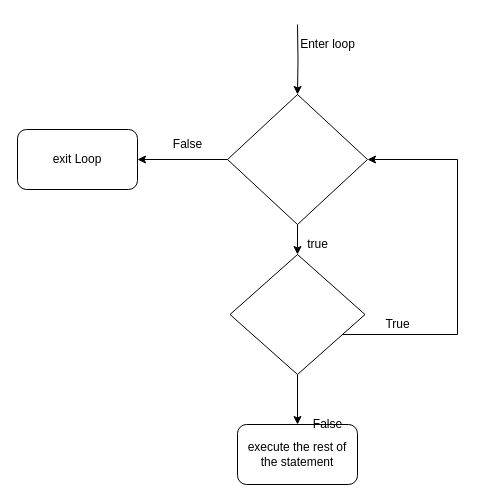
Some shapes in this 483 by 502 pixel diagram are drawn without their labels. Each missing label, with the centre of its shape:
continue: (297,314)
test Continue condition: (297,159)
